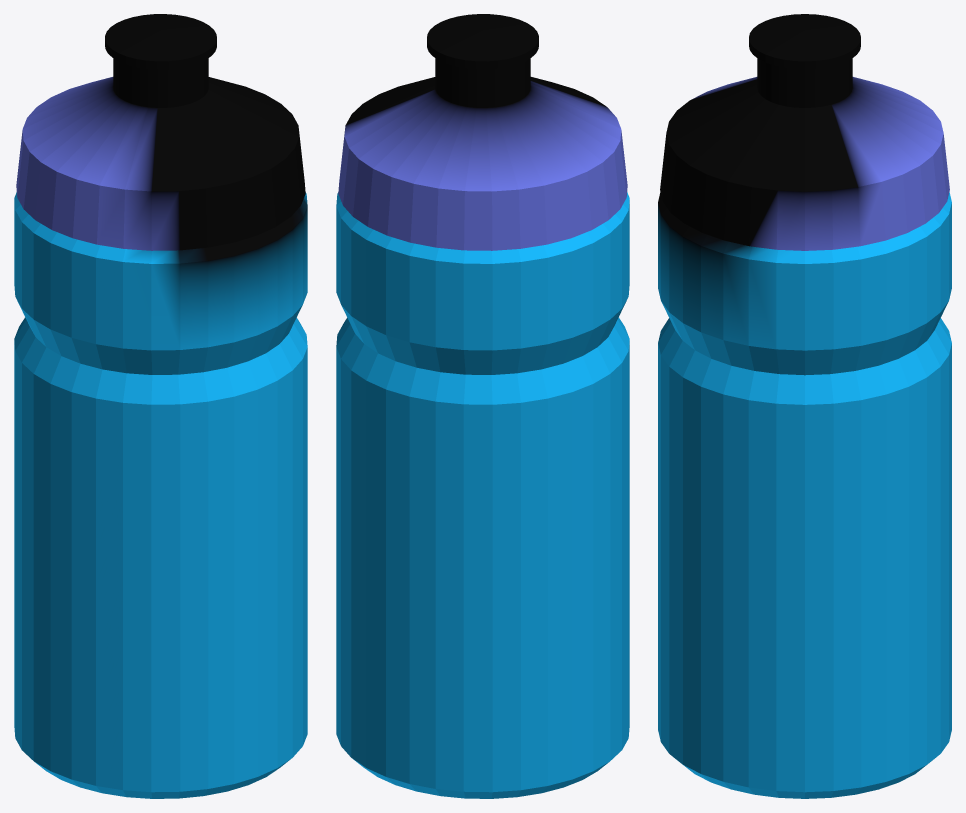
File: WaterBottle.fbx
3 renders of one model, left to right at view 1: azimuth 30°, elevation 25°; view 2: azimuth 150°, elevation 25°; view 3: azimuth 270°, elevation 25°, orthographic.
Parts seen in each view (by area): view 1: Cylinder; view 2: Cylinder; view 3: Cylinder.
Boxes of the visible parts, x1,y1,x2,y2 form: Cylinder: (14, 14, 307, 798); Cylinder: (336, 14, 629, 798); Cylinder: (658, 14, 951, 798).
Bounding box in the file's own units: 200 × 535 × 200.
